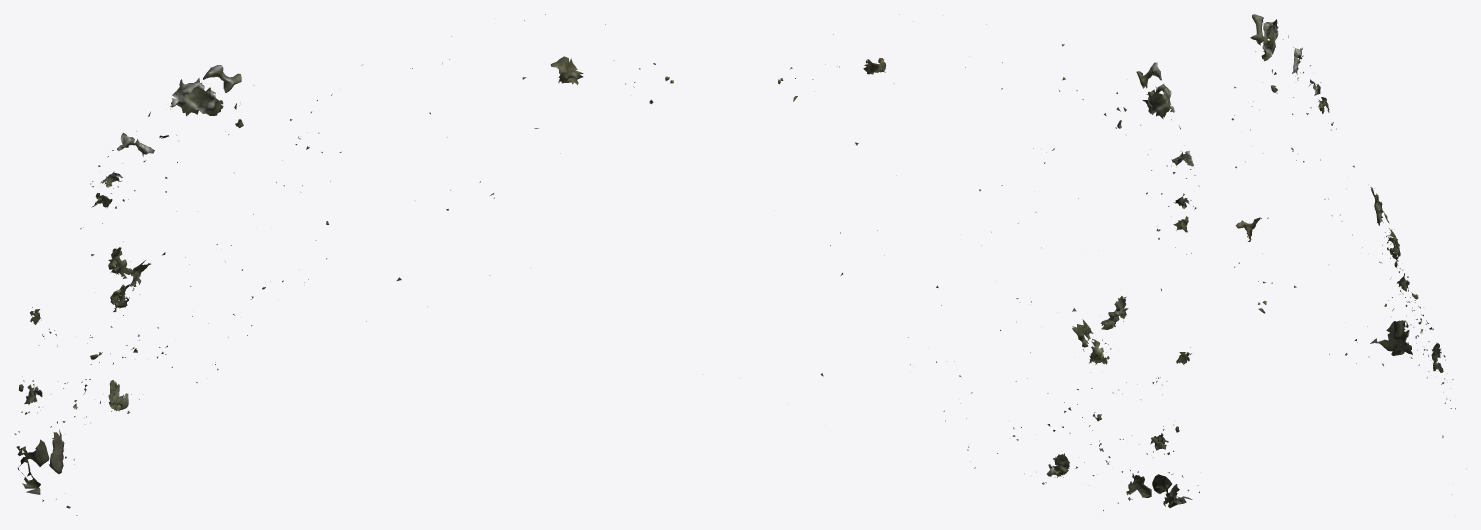
3 views of the same model, side by side, from view 1: azimuth 30°, elevation 25°; view 2: azimuth 150°, elevation 25°; view 3: azimuth 270°, elevation 25° (orthographic). The views are drawn at different scales.
Bounding box in the file's own units: 8.12 × 6.28 × 3.52.
Materials: 1 (1 with a texture image).
